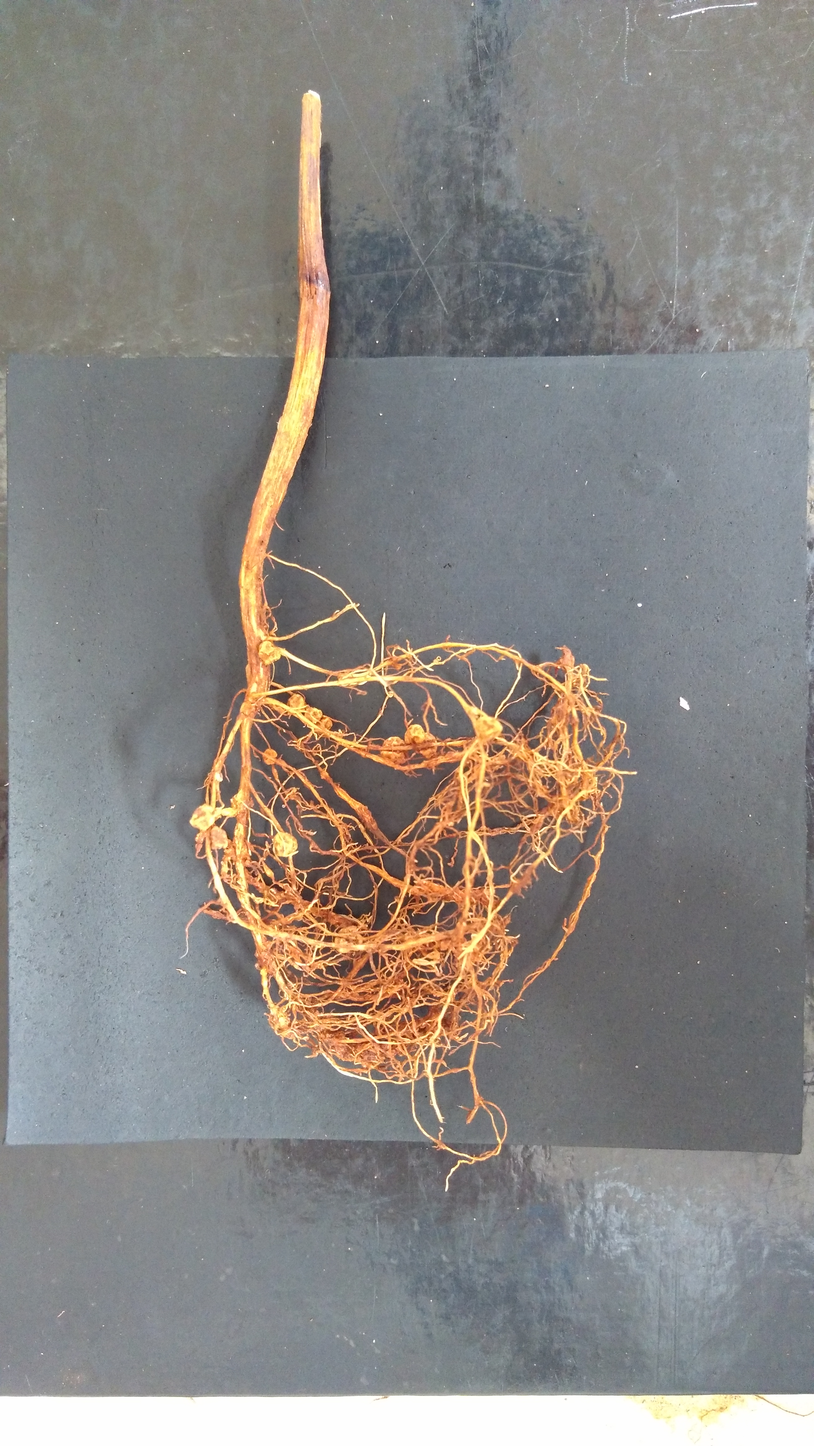nodule: (334, 925, 365, 953), (189, 804, 216, 831), (380, 737, 407, 764), (475, 716, 503, 742), (272, 831, 297, 856), (370, 1041, 396, 1065), (230, 793, 248, 825), (258, 641, 282, 664), (418, 731, 437, 759), (428, 1019, 459, 1035), (210, 825, 228, 851), (395, 1035, 417, 1056), (470, 933, 492, 953), (405, 724, 425, 744), (287, 694, 306, 714), (270, 1012, 290, 1031), (419, 929, 439, 948), (293, 993, 311, 1014), (421, 942, 441, 960), (451, 935, 468, 956), (304, 706, 322, 725), (314, 714, 332, 733), (254, 951, 272, 970), (334, 1041, 353, 1059), (222, 838, 236, 862), (400, 983, 419, 999), (436, 1001, 452, 1018), (263, 747, 277, 765), (238, 701, 254, 716), (367, 1039, 381, 1056), (354, 1042, 369, 1057), (221, 807, 240, 818), (445, 1013, 462, 1025), (272, 705, 290, 716), (320, 1029, 335, 1042), (414, 1028, 429, 1040), (456, 919, 469, 932), (439, 939, 452, 951), (334, 1030, 347, 1040), (194, 832, 205, 843), (270, 1004, 280, 1016), (362, 1054, 376, 1062), (214, 770, 223, 782), (288, 791, 296, 800), (394, 662, 402, 671), (243, 859, 251, 867), (472, 945, 479, 952), (479, 825, 487, 831), (282, 804, 286, 808), (220, 861, 223, 865)
